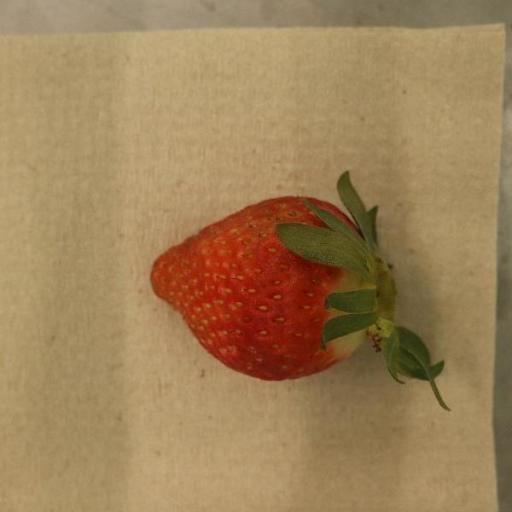Strawberry: (150, 172, 446, 385)
